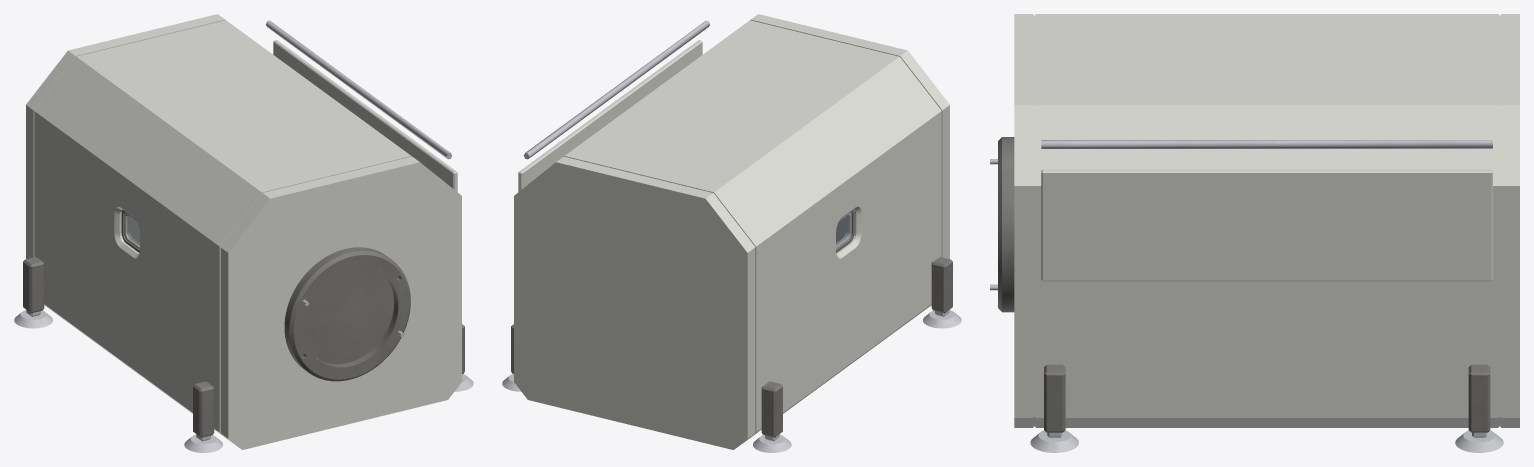
File: ax_rover_06_temp_station.glb
The picture shows the model from 3 angles, left to right: view 1: azimuth 30°, elevation 25°; view 2: azimuth 150°, elevation 25°; view 3: azimuth 270°, elevation 25°; orthographic projection. The views are drawn at different scales.
Parts seen in each view (by area): view 1: hub_shell, hatch_door_1, hub_ring_front, panel_awning_radiator, awning_hinge, jack_sleeve_1, jack_sleeve_2, leg_2, leg_1; view 2: hub_shell, panel_awning_radiator, awning_hinge, jack_sleeve_2, jack_sleeve_1, leg_1, leg_2; view 3: hub_shell, panel_awning_radiator, awning_hinge, hub_ring_front, jack_sleeve_4, jack_sleeve_3, leg_3, leg_4.
Boxes of the visible parts, x1,y1,x2,y2 form: hub_shell: [26, 14, 461, 449]; hatch_door_1: [305, 267, 394, 364]; hub_ring_front: [284, 247, 410, 381]; panel_awning_radiator: [273, 40, 457, 191]; awning_hinge: [266, 20, 451, 159]; jack_sleeve_1: [193, 381, 214, 437]; jack_sleeve_2: [23, 257, 44, 313]; leg_2: [14, 310, 52, 328]; leg_1: [184, 434, 222, 452]; hub_shell: [514, 14, 949, 449]; panel_awning_radiator: [518, 40, 702, 191]; awning_hinge: [524, 20, 709, 159]; jack_sleeve_2: [761, 381, 782, 437]; jack_sleeve_1: [931, 257, 952, 313]; leg_1: [923, 310, 961, 328]; leg_2: [753, 434, 791, 452]; hub_shell: [1014, 14, 1519, 427]; panel_awning_radiator: [1041, 169, 1492, 281]; awning_hinge: [1041, 140, 1492, 148]; hub_ring_front: [998, 137, 1014, 312]; jack_sleeve_4: [1468, 364, 1490, 432]; jack_sleeve_3: [1044, 364, 1065, 432]; leg_3: [1030, 430, 1078, 452]; leg_4: [1455, 430, 1503, 452].
Size of the model in its own units: 3.04 by 2.56 by 3.93.
Materials: 4 (2 with a texture image).
